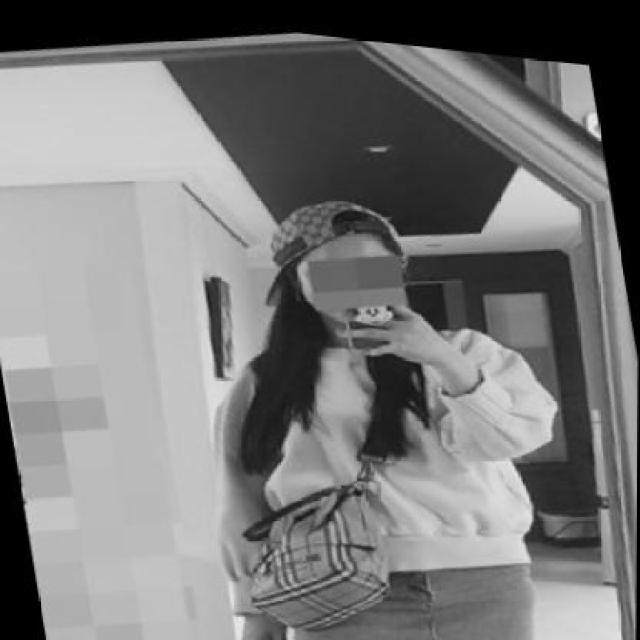hat: (263, 191, 405, 300)
